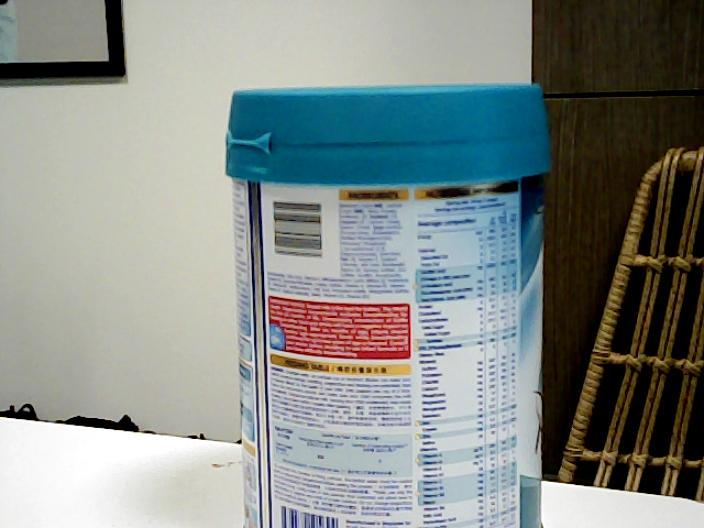Babymilk-powder_800-899g_Halal_Healthy: (223, 82, 545, 528)
